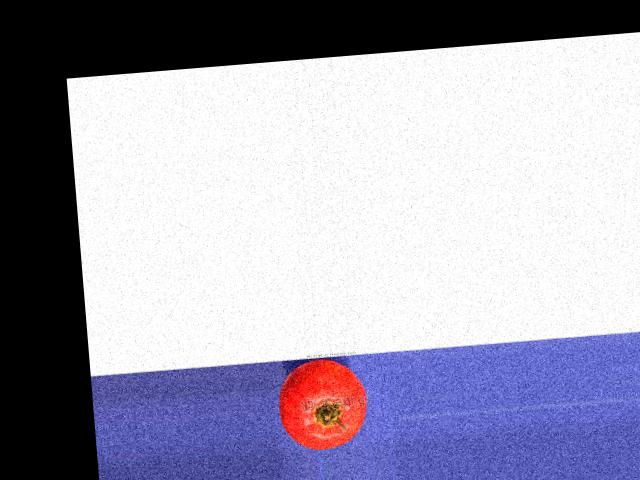tomato: (275, 357, 369, 452)
